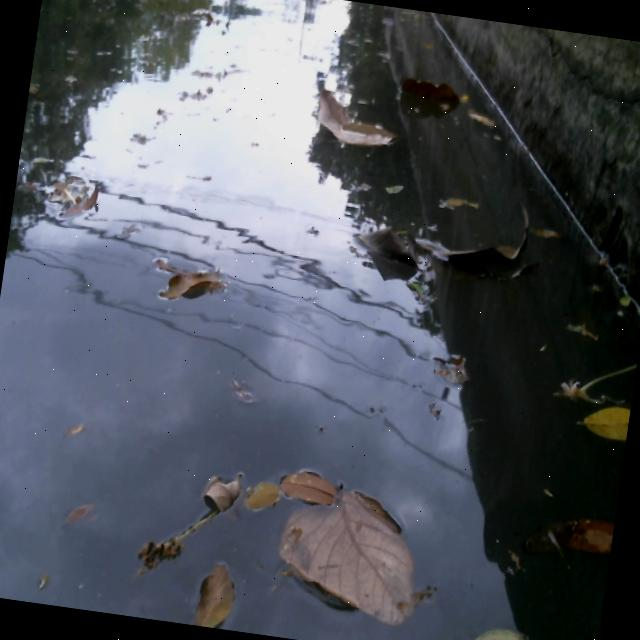Big-leaf: (277, 487, 433, 640), (346, 210, 554, 302), (304, 79, 409, 163), (397, 63, 476, 111)
Small-leaf: (11, 161, 109, 233), (156, 237, 237, 322), (520, 505, 615, 569), (558, 345, 638, 413), (194, 461, 255, 533), (134, 509, 198, 577), (190, 561, 246, 632), (578, 397, 631, 460), (280, 462, 339, 509), (461, 615, 552, 640), (57, 491, 107, 531), (243, 474, 284, 520), (435, 189, 481, 220), (465, 104, 502, 134), (60, 414, 91, 446), (381, 177, 406, 204)
